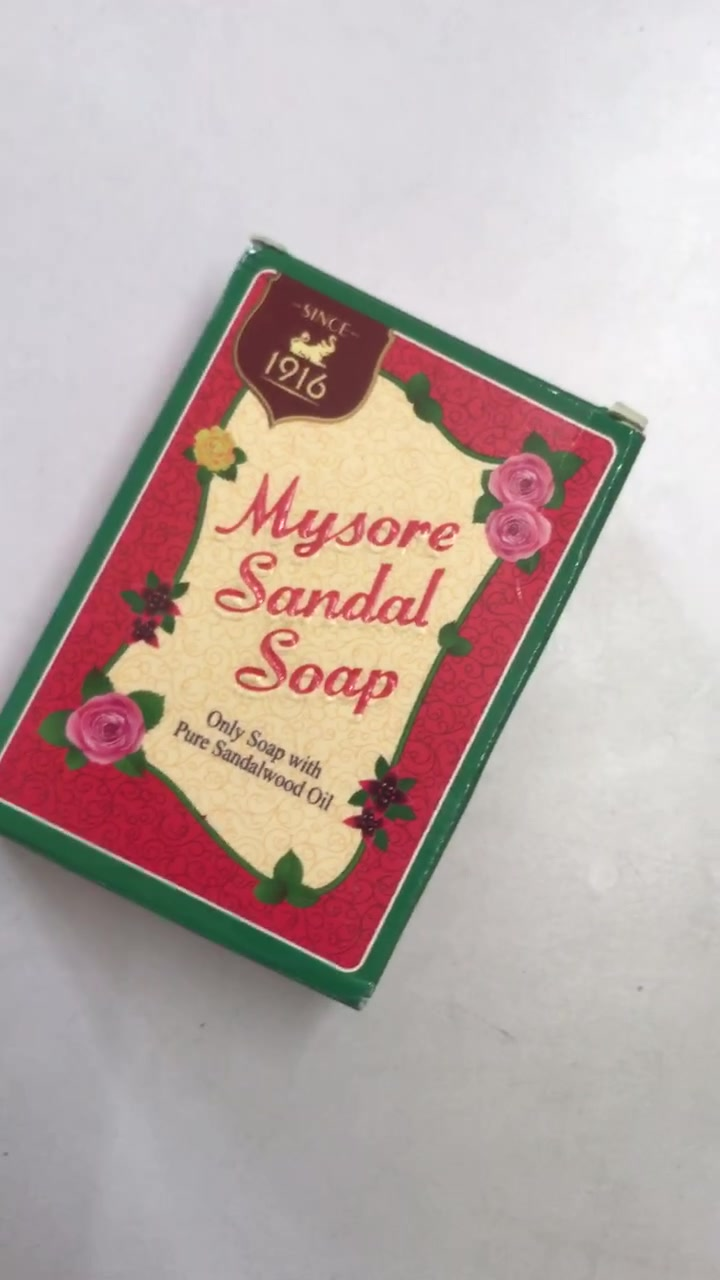mysore sandal soap: (5, 245, 655, 1012)
